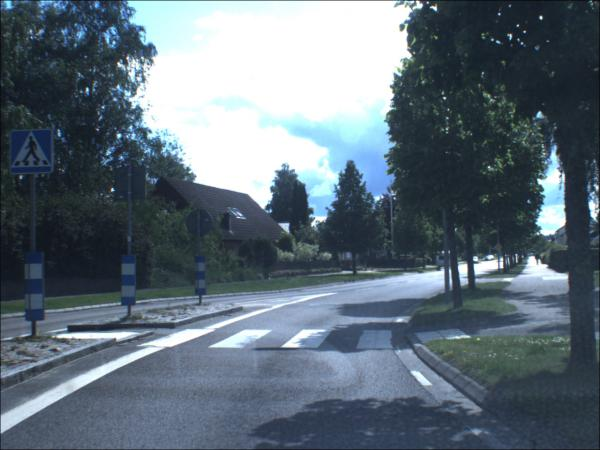PEDESTRIAN_CROSSING: (12, 131, 56, 176)
PRIORITY_ROAD: (496, 245, 504, 253)
